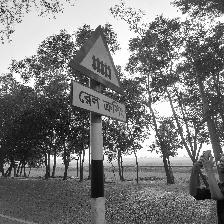Rail-crossing: (68, 25, 127, 125)
